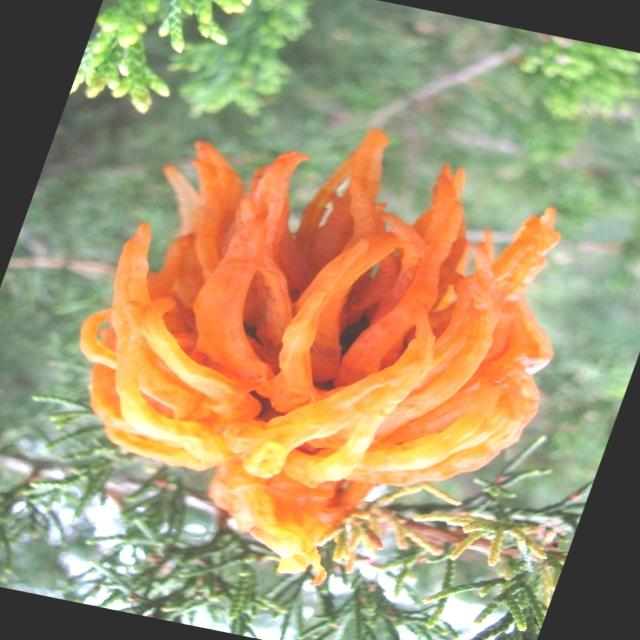Gymnosporangium_Rusts: (78, 126, 562, 584)
